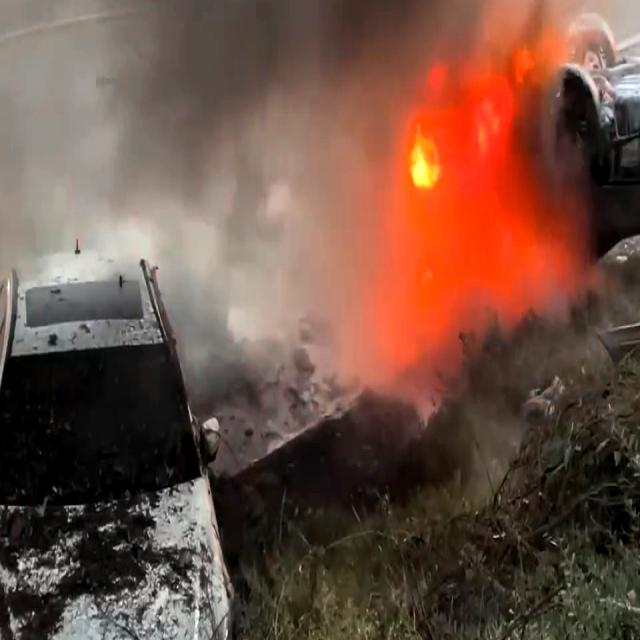fire: (401, 134, 446, 201)
smoke: (102, 42, 377, 354)
